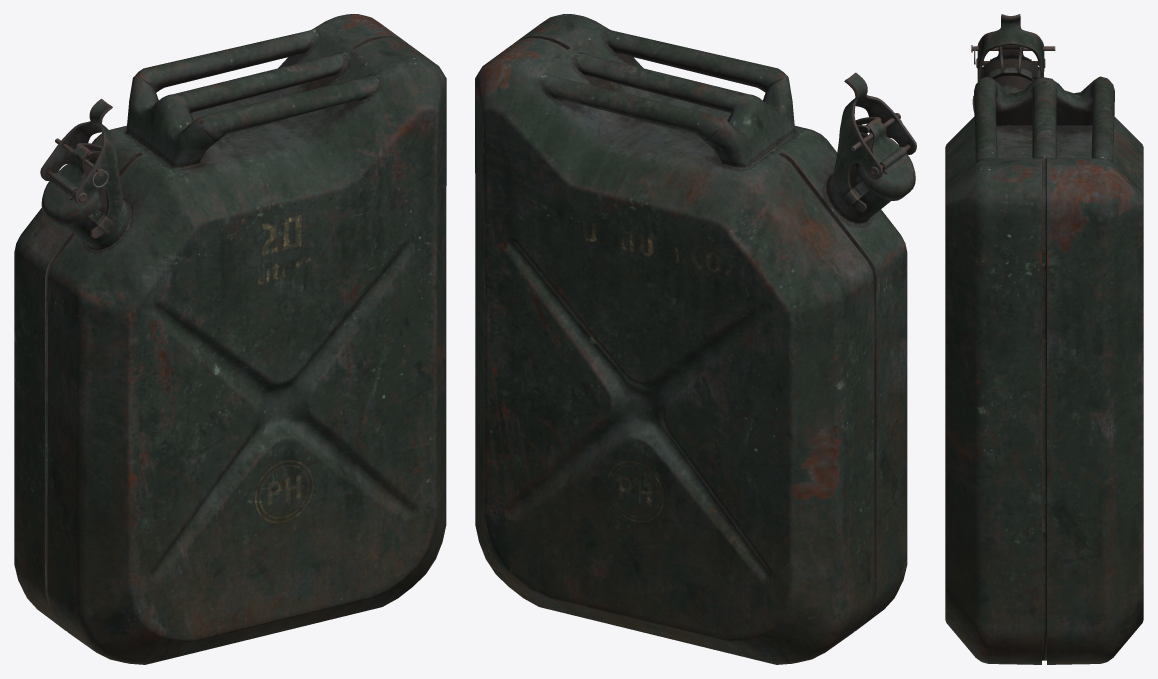
The picture shows the model from 3 angles, left to right: view 1: azimuth 30°, elevation 25°; view 2: azimuth 150°, elevation 25°; view 3: azimuth 270°, elevation 25°; orthographic projection. The views are drawn at different scales.
Parts seen in each view (by area): view 1: body, latch, cap; view 2: body, latch, cap; view 3: body, latch, cap, fastener.
Part boxes in pixels (left/top/right/bottom): body: left=14, top=14, right=446, bottom=664; latch: left=40, top=98, right=122, bottom=238; cap: left=41, top=144, right=101, bottom=227; body: left=475, top=14, right=907, bottom=664; latch: left=834, top=72, right=916, bottom=212; cap: left=855, top=118, right=915, bottom=200; body: left=945, top=75, right=1143, bottom=664; latch: left=976, top=14, right=1045, bottom=81; cap: left=980, top=45, right=1040, bottom=79; fastener: left=989, top=46, right=1032, bottom=81.
Size of the model in its own units: 0.3604 by 0.4999 by 0.1709.
1 material, 1 textured.
